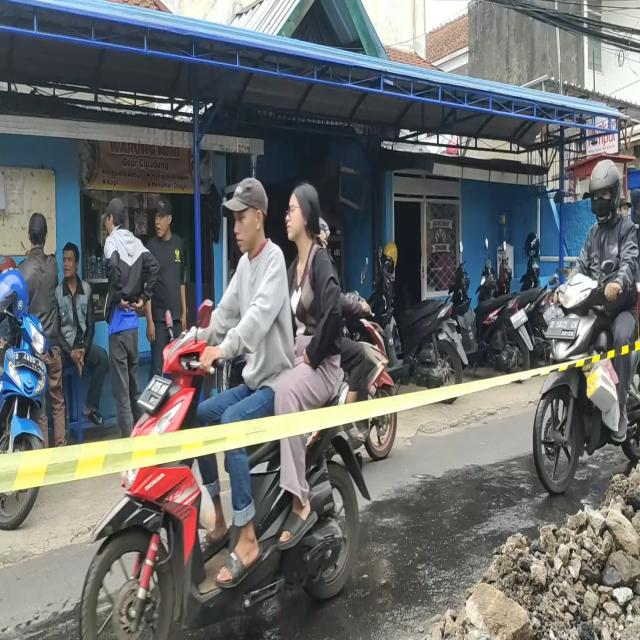helmet: (589, 162, 624, 219)
no-helmet: (226, 179, 269, 255), (284, 181, 319, 242)
